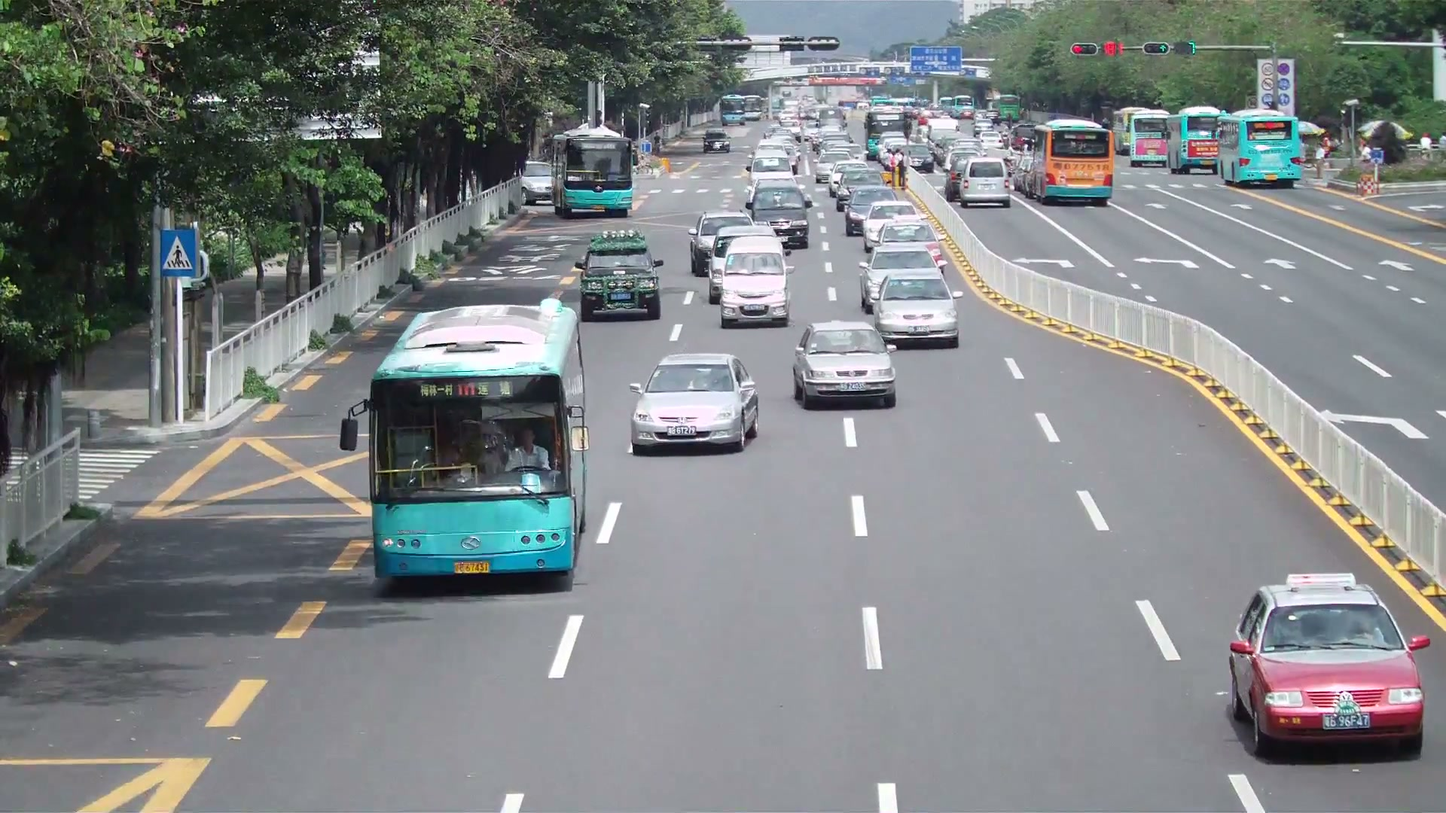bus: (344, 297, 590, 586), (551, 125, 635, 218), (1216, 110, 1304, 189), (1037, 116, 1115, 205), (1114, 107, 1174, 169), (1174, 105, 1225, 173), (520, 161, 555, 203)
car: (1225, 577, 1429, 762), (628, 351, 760, 455), (791, 319, 898, 410), (577, 230, 665, 322), (716, 231, 792, 327), (870, 271, 959, 349), (687, 211, 757, 275), (747, 183, 814, 249), (858, 202, 921, 246), (702, 132, 731, 153)
pedestrian: (505, 423, 553, 473), (1357, 139, 1383, 197)
truck: (954, 156, 1014, 209)
